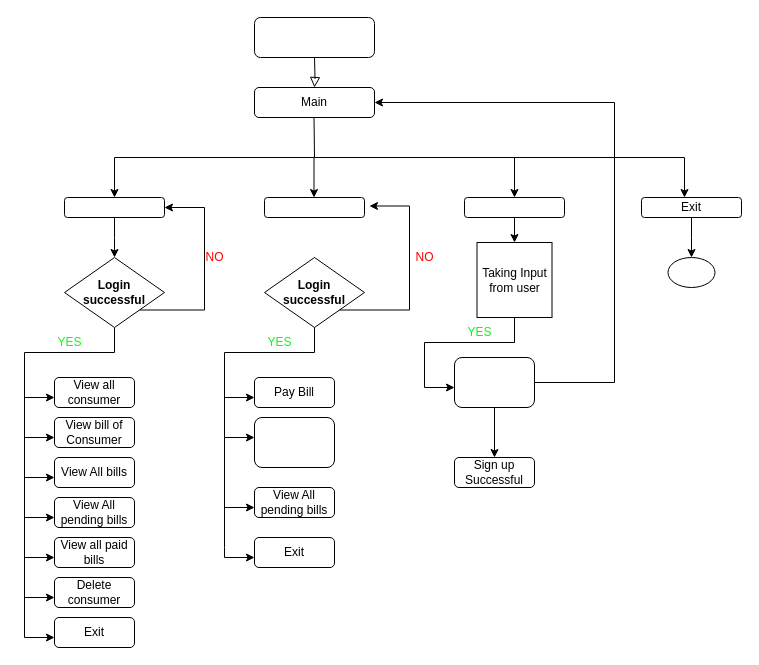
The diagram is 759 pixels wide and 665 high, and some of its shapes have lost their labels. Each missing label, with the box of its shape:
Admin Login: (64, 196, 164, 218)
Consumer Login: (264, 196, 364, 218)
Consumer Signup: (464, 196, 564, 218)
End: (667, 256, 715, 288)
if username is unique: (454, 356, 534, 408)
Start: (254, 16, 374, 58)
View transaction history: (254, 416, 334, 468)
